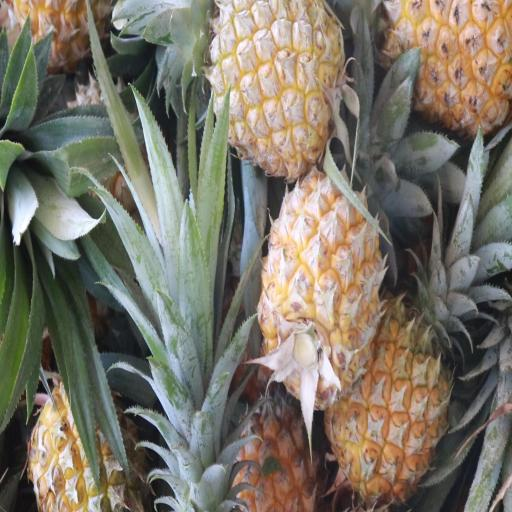------------------------------: (27, 376, 150, 512)
Pineapple - v8 v1: (262, 170, 380, 400), (322, 292, 442, 492), (199, 2, 339, 172), (375, 0, 510, 130), (214, 387, 324, 512)
